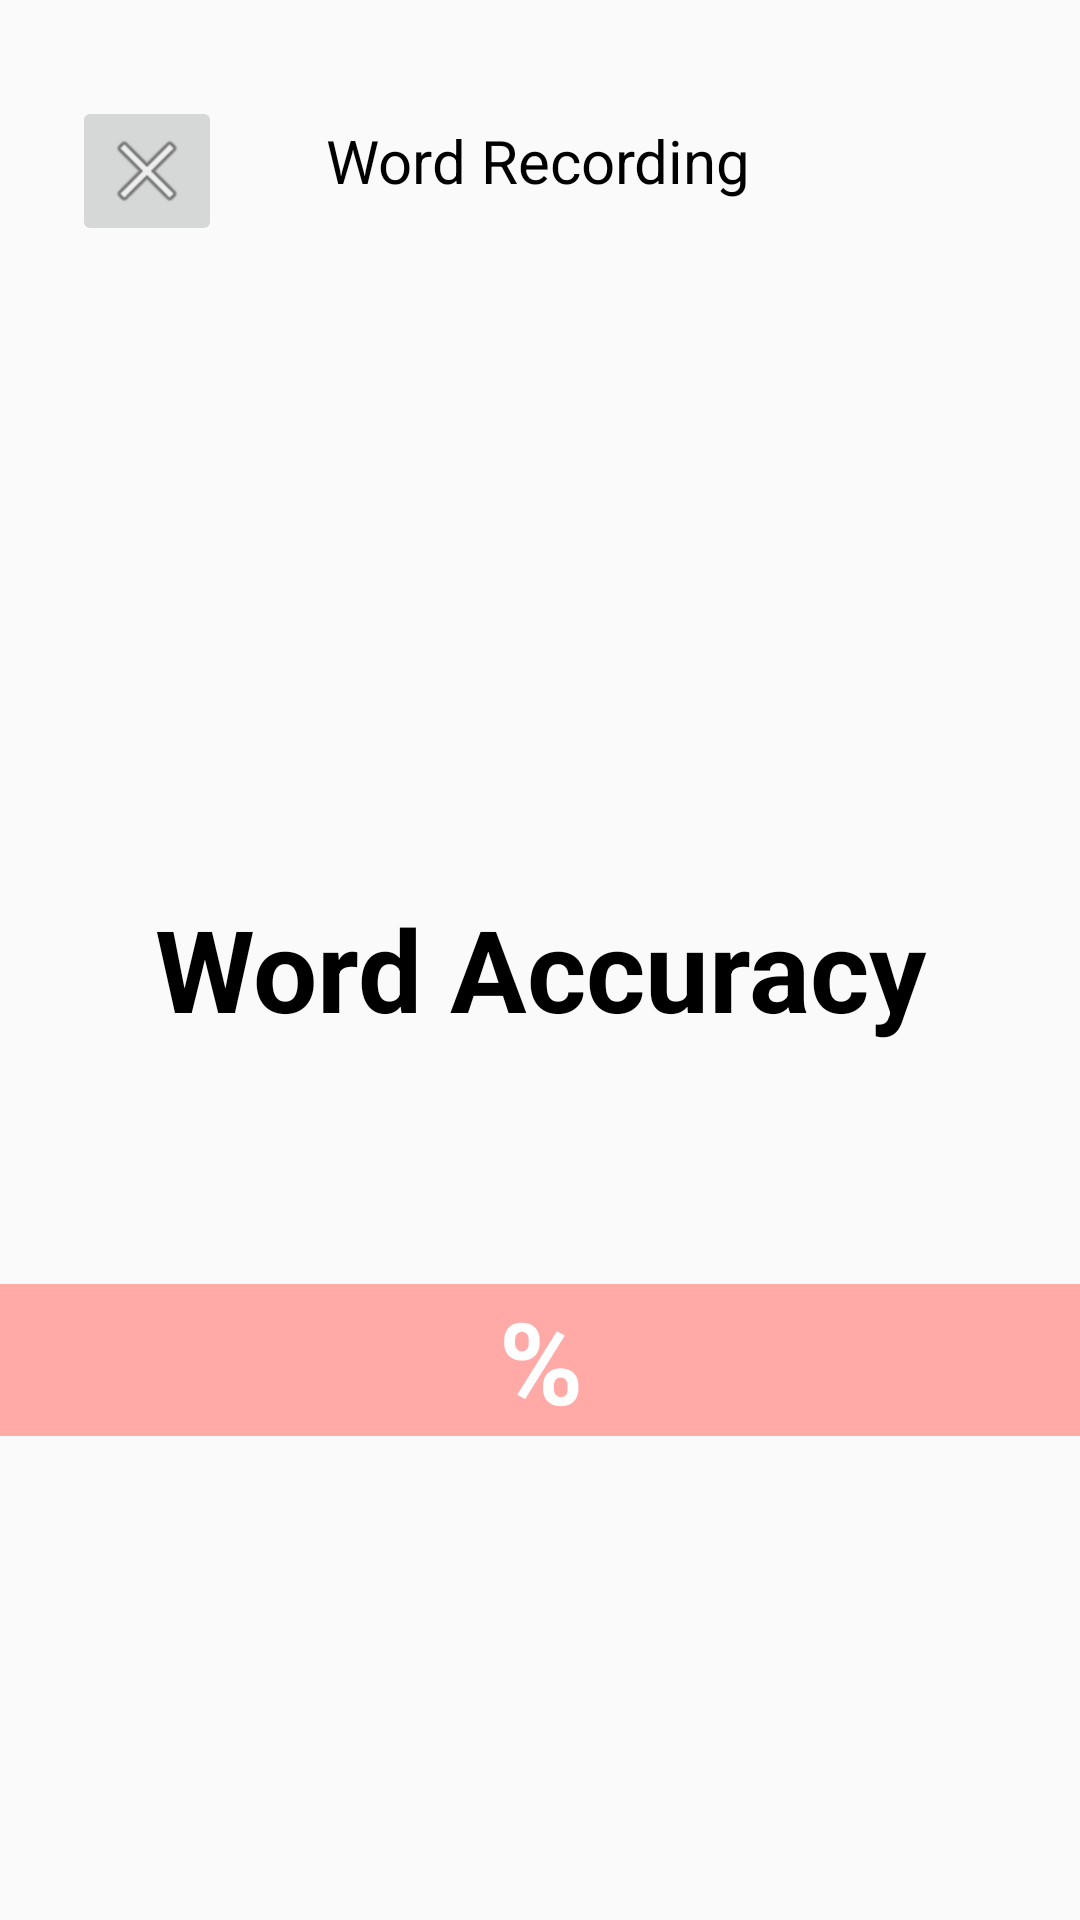

Icon bounding boxes for this 1080 × 1920 phone screenshot, format (x1, y1, x2, y2):
close clear cancel: (84, 114, 210, 228)
